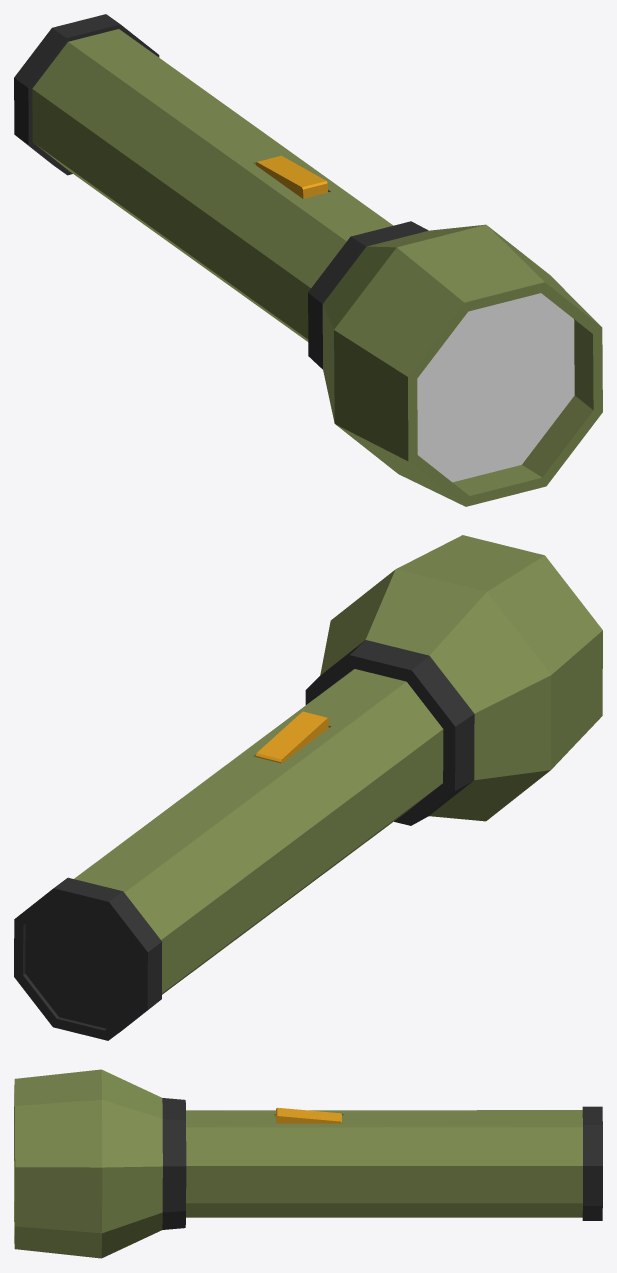
File: Flashlight.fbx
3 views of the same model, one above another, from view 1: azimuth 30°, elevation 25°; view 2: azimuth 150°, elevation 25°; view 3: azimuth 270°, elevation 25° (orthographic). The views are drawn at different scales.
Visible parts, largest first — view 1: Flashlight; view 2: Flashlight; view 3: Flashlight.
Boxes of the visible parts, bbox=[...] form: Flashlight: bbox=[14, 14, 602, 506]; Flashlight: bbox=[14, 535, 602, 1040]; Flashlight: bbox=[14, 1069, 602, 1258].
Bounding box in the file's own units: 32.22 × 32.22 × 108.
